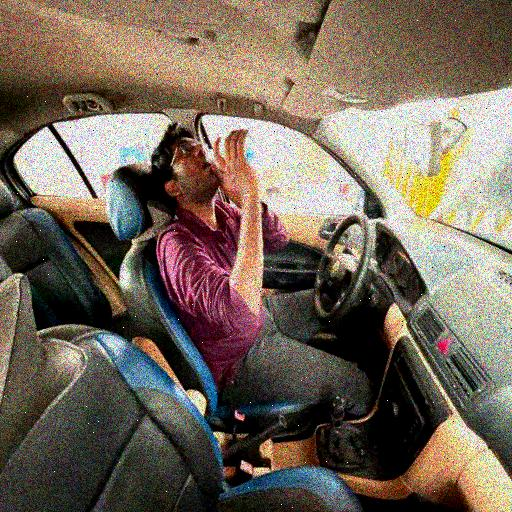Drinking: (148, 119, 327, 384)
